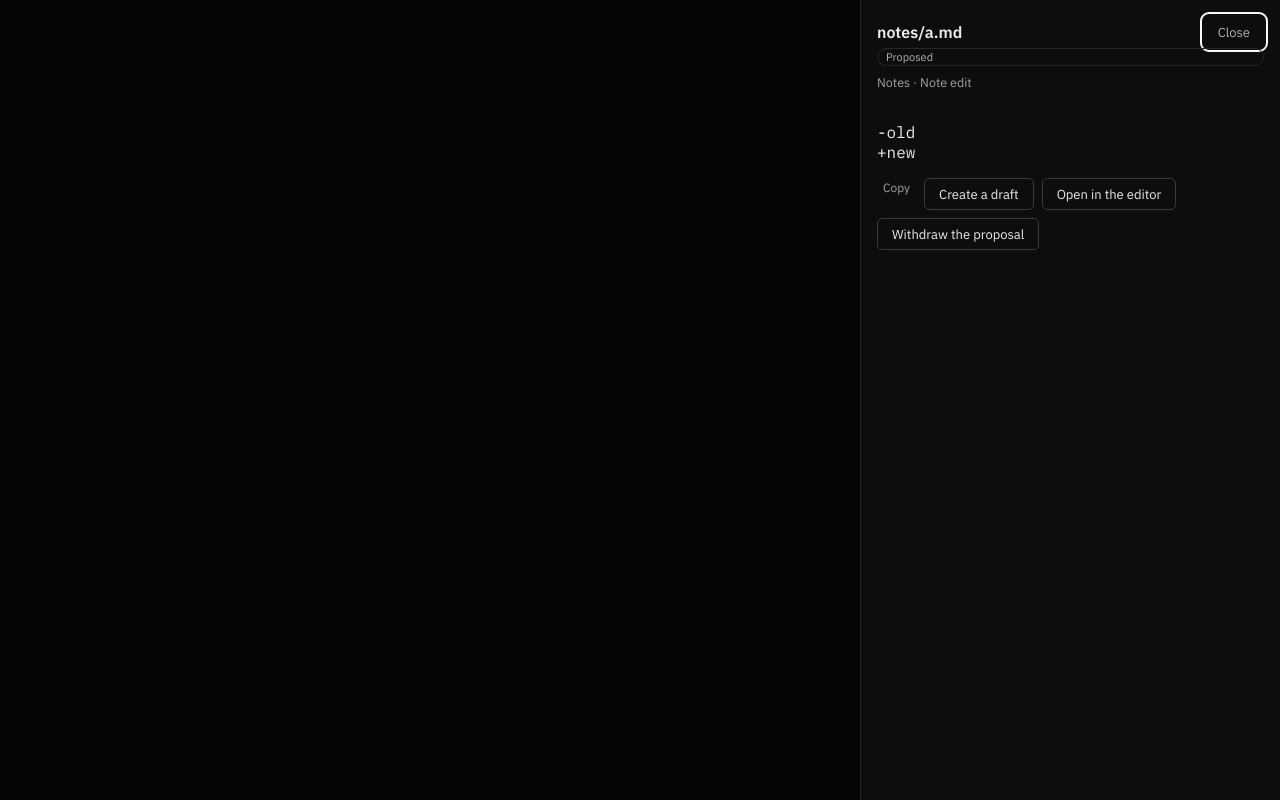
a failed hand-off passes nothing on and says so
This screenshot has width=1280, height=800.
Click the button "Create a draft": (979, 194) [924,178,1034,210]
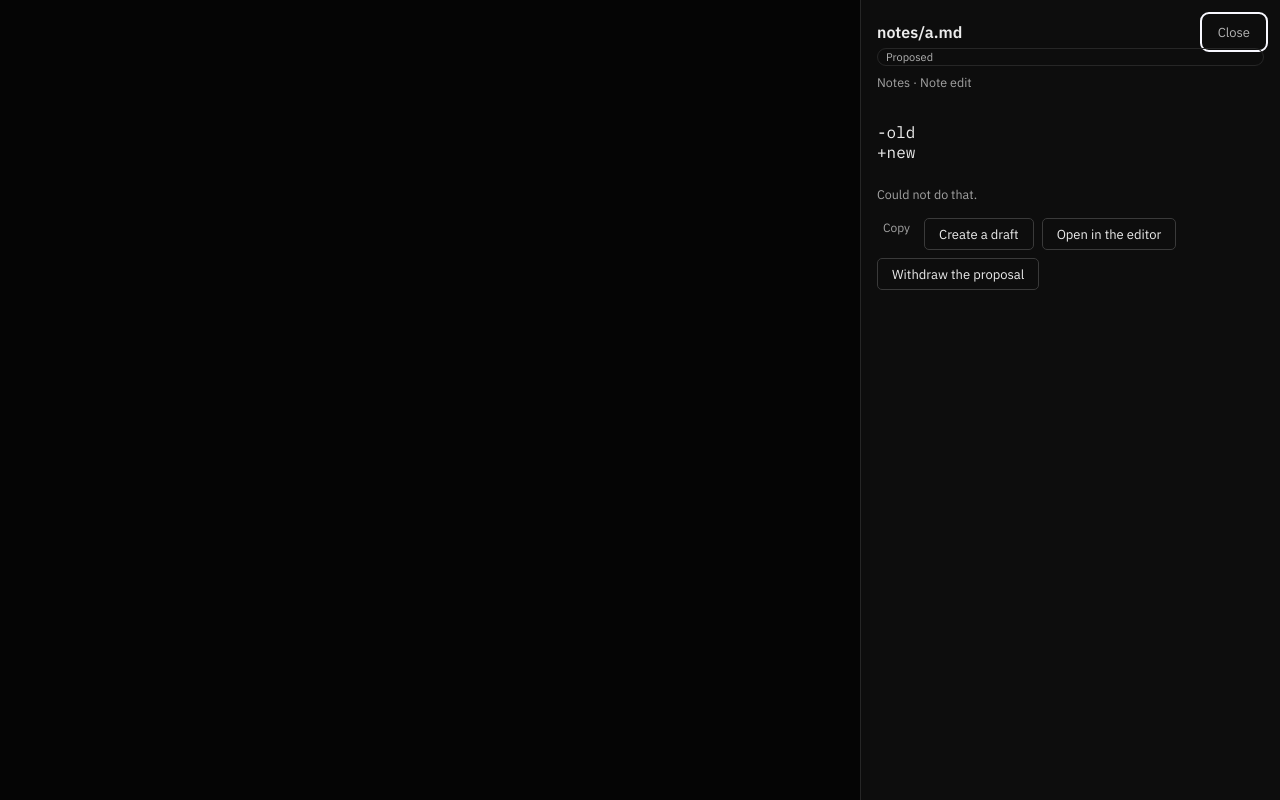
Result: the message reads "Could not do that." at [877,186,977,202]
